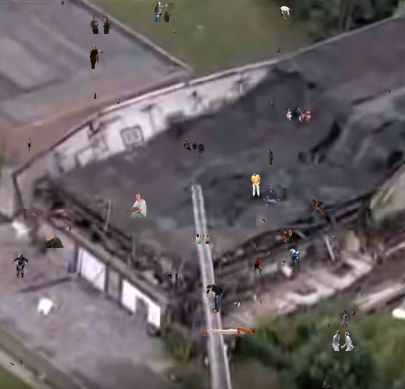Human: (254, 257, 286, 274), (202, 327, 256, 337), (89, 41, 108, 69), (331, 330, 356, 351), (126, 193, 147, 218), (206, 284, 224, 313), (154, 2, 180, 22), (262, 184, 284, 207), (272, 6, 299, 24), (183, 139, 205, 161), (90, 16, 116, 34), (12, 253, 29, 279), (311, 199, 330, 220), (285, 108, 311, 123), (288, 245, 301, 273), (341, 305, 356, 328), (42, 235, 64, 248), (251, 171, 261, 197), (279, 227, 294, 244), (163, 272, 180, 282), (196, 234, 210, 244), (7, 359, 24, 367), (26, 138, 33, 151), (268, 149, 273, 165), (234, 300, 242, 309), (256, 265, 262, 275), (384, 88, 391, 96), (322, 381, 329, 388), (192, 320, 200, 326), (230, 139, 239, 144), (259, 299, 264, 307), (267, 252, 272, 257), (331, 236, 336, 241), (31, 212, 37, 216), (61, 0, 64, 8), (278, 48, 281, 55), (261, 219, 265, 224), (69, 226, 73, 231), (173, 29, 177, 34), (117, 99, 121, 104), (271, 101, 274, 107), (320, 1, 323, 7), (94, 93, 97, 99), (328, 323, 331, 329), (54, 297, 57, 303)
